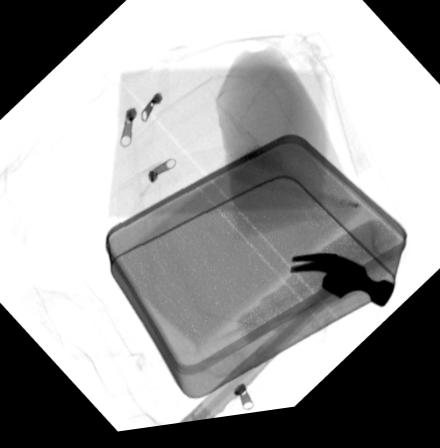Hammer: (178, 262, 395, 428)
